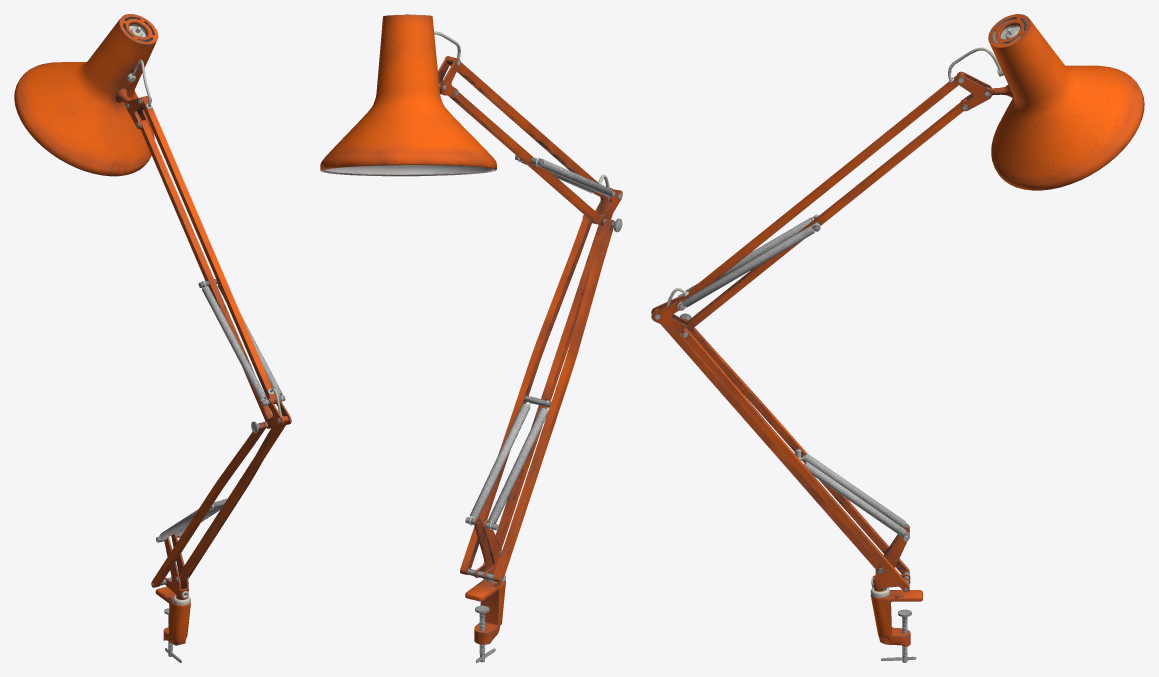
Rendered from desk_lamp_arm_01.glb.
3 views of the same model, side by side, from view 1: azimuth 30°, elevation 25°; view 2: azimuth 150°, elevation 25°; view 3: azimuth 270°, elevation 25° (orthographic). The views are drawn at different scales.
Parts seen in each view (by area): view 1: desk_lamp_arm_01; view 2: desk_lamp_arm_01; view 3: desk_lamp_arm_01.
Boxes of the visible parts, x1,y1,x2,y2 form: desk_lamp_arm_01: (14, 14, 291, 662); desk_lamp_arm_01: (320, 14, 622, 662); desk_lamp_arm_01: (651, 14, 1144, 662).
Size of the model in its own units: 0.2017 by 0.8926 by 0.6139.
Materials: 2 (2 with a texture image).
